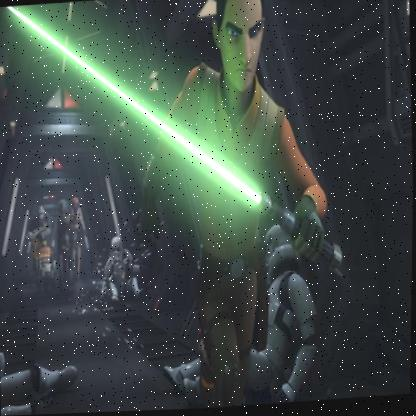lightsaber: (0, 0, 353, 305)
